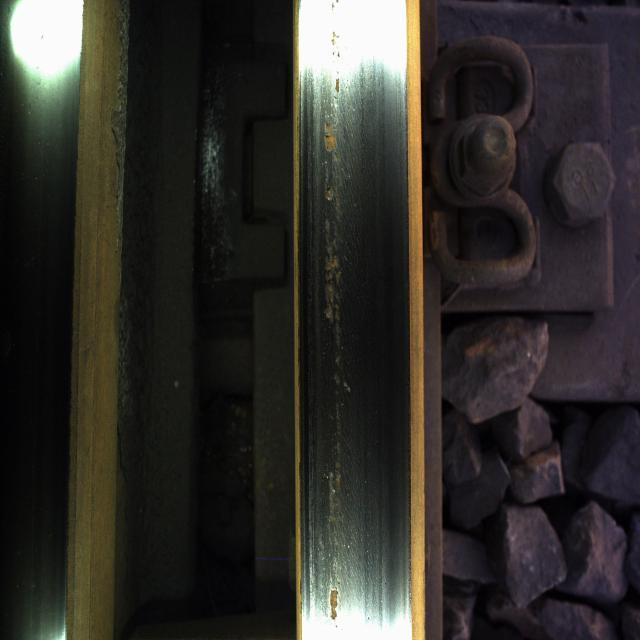scar: (308, 8, 372, 628)
